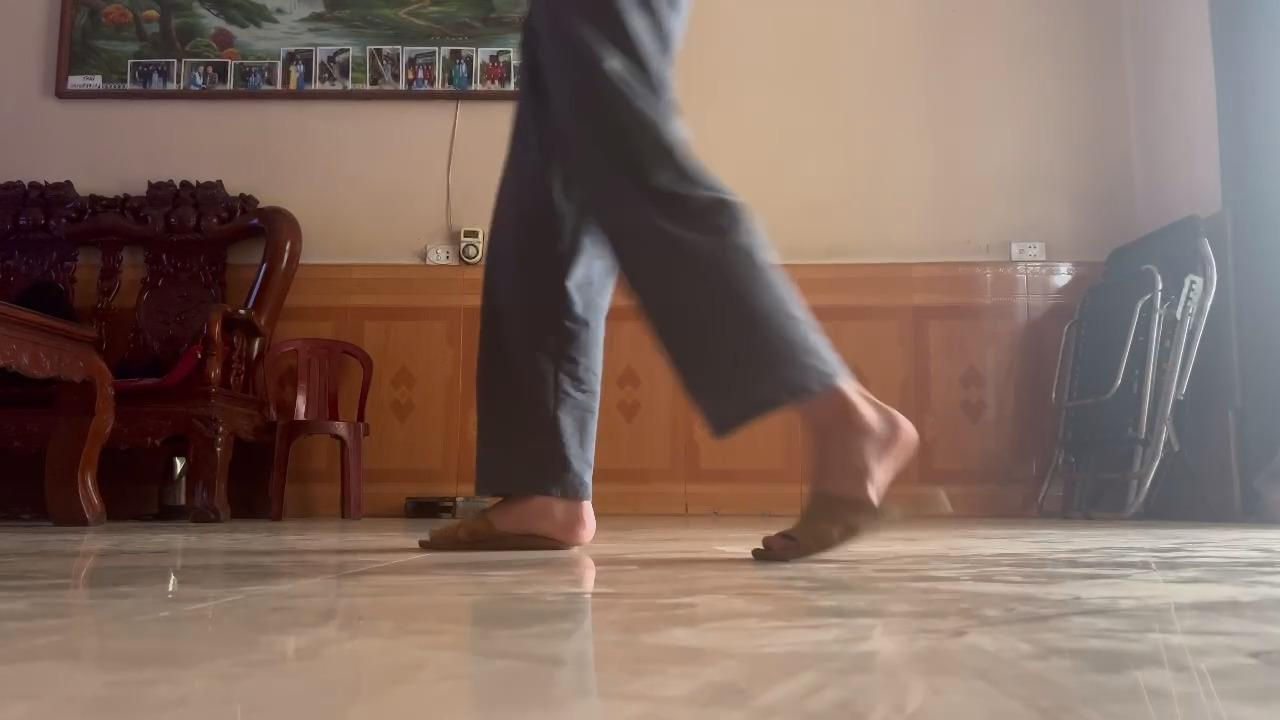no-boot: (741, 402, 929, 568), (408, 499, 603, 561)
